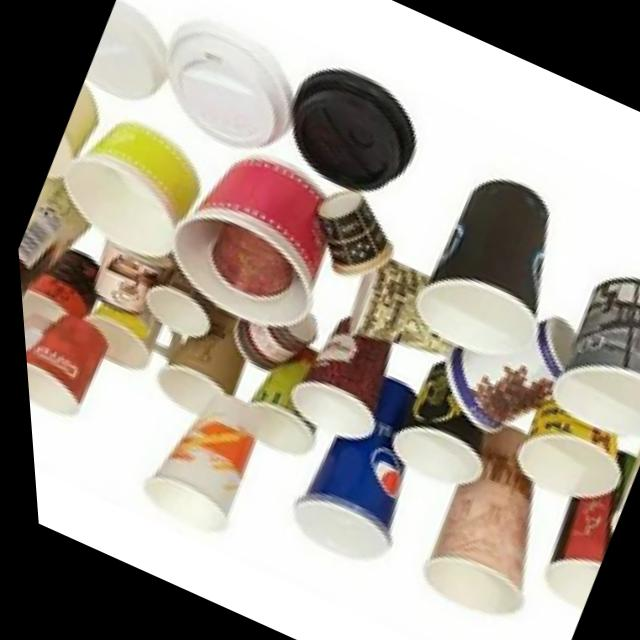paper_cups: (147, 132, 363, 345), (389, 412, 589, 638), (259, 356, 457, 580), (399, 166, 584, 370), (38, 102, 226, 276), (410, 280, 588, 458), (125, 377, 273, 542), (526, 262, 640, 457), (516, 444, 640, 616), (223, 332, 346, 472), (141, 306, 257, 430), (17, 291, 117, 426), (579, 368, 640, 545), (36, 72, 119, 194)
